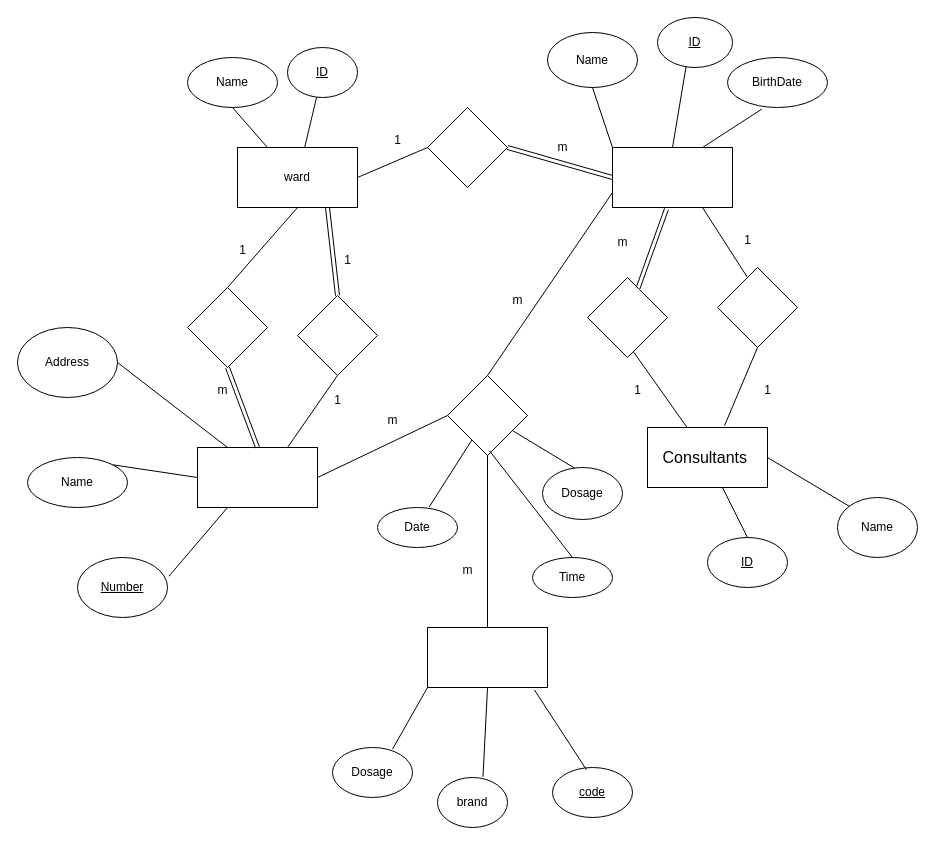
This 935x845 diagram has some shape labels left out. Each missing label, with the box of its shape:
Assign: (586, 276, 668, 358)
Drug: (426, 626, 548, 688)
Examine: (716, 266, 798, 348)
Gives: (446, 374, 528, 456)
Host: (426, 106, 508, 188)
Nurse: (196, 446, 318, 508)
Patients: (612, 146, 732, 208)
Serve: (186, 286, 268, 368)
Supervise: (296, 294, 378, 376)
